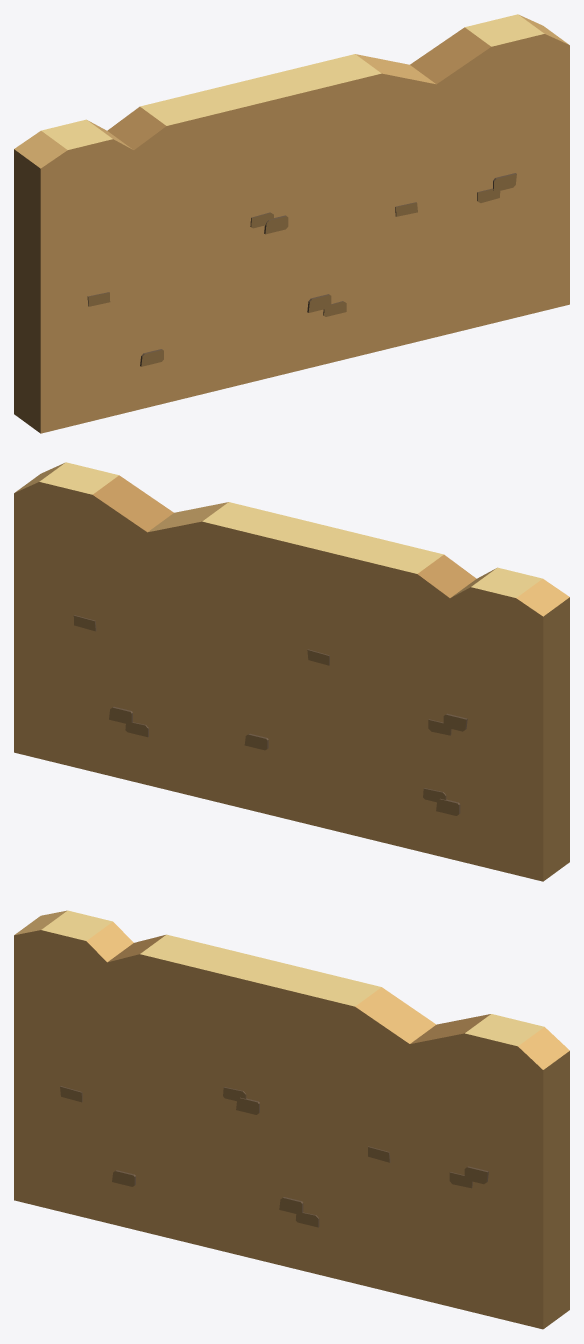
File: TB_D_Bd_Wall_Plain_A_Yel.FBX
3 renders of one model, top to bottom at view 1: azimuth 30°, elevation 25°; view 2: azimuth 150°, elevation 25°; view 3: azimuth 330°, elevation 25°, orthographic.
Parts seen in each view (by area): view 1: TB_D_Bd_Wall_Plain_A_Yel; view 2: TB_D_Bd_Wall_Plain_A_Yel; view 3: TB_D_Bd_Wall_Plain_A_Yel.
Boxes of the visible parts, bbox=[...] form: TB_D_Bd_Wall_Plain_A_Yel: bbox=[14, 14, 569, 433]; TB_D_Bd_Wall_Plain_A_Yel: bbox=[14, 462, 569, 881]; TB_D_Bd_Wall_Plain_A_Yel: bbox=[14, 910, 569, 1329].
Bounding box in the file's own units: 8 × 4 × 0.7691.
